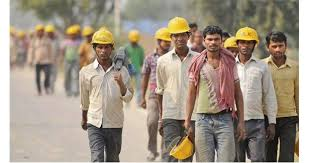hard hat: (168, 137, 193, 160), (165, 18, 193, 37), (88, 29, 116, 46), (235, 25, 261, 42), (153, 27, 171, 41)
safe person: (79, 28, 136, 158), (235, 27, 278, 158), (154, 15, 192, 126)
unsafe person: (197, 24, 240, 157), (265, 31, 295, 134)
